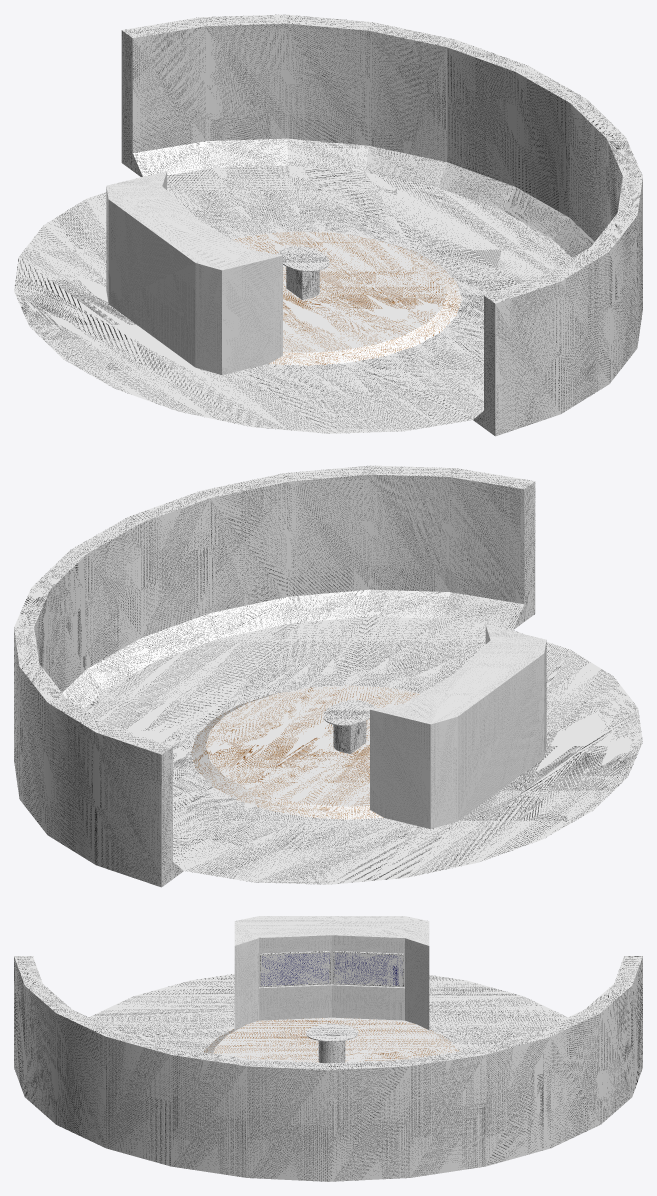
The model's file is hbxlivestudio.dae.
The picture shows the model from 3 angles, top to bottom: view 1: azimuth 30°, elevation 25°; view 2: azimuth 150°, elevation 25°; view 3: azimuth 270°, elevation 25°; orthographic projection. The views are drawn at different scales.
Parts seen in each view (by area): view 1: SketchUp (×5); view 2: SketchUp (×5); view 3: SketchUp (×9).
Part boxes in pixels (x1,y1,x2,y2): SketchUp (×5): [14, 14, 642, 436]; SketchUp (×5): [14, 465, 642, 887]; SketchUp (×9): [14, 916, 642, 1181].
Bounding box in the file's own units: 2001 × 2476 × 489.
